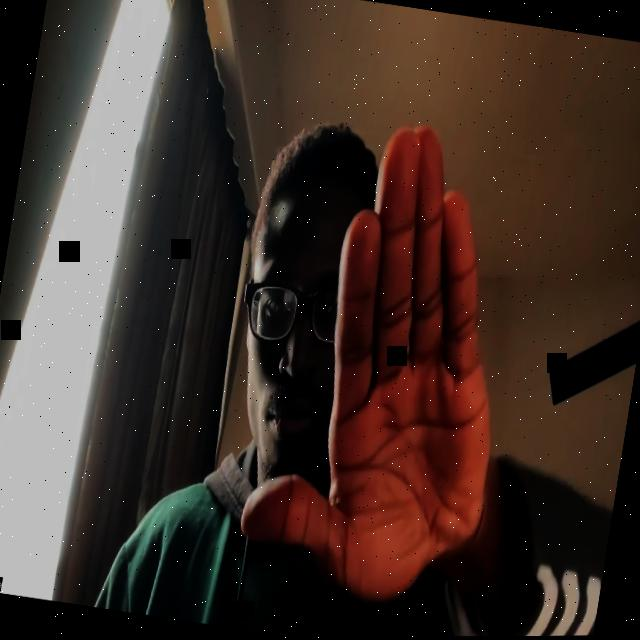Paper: (232, 106, 542, 616)
